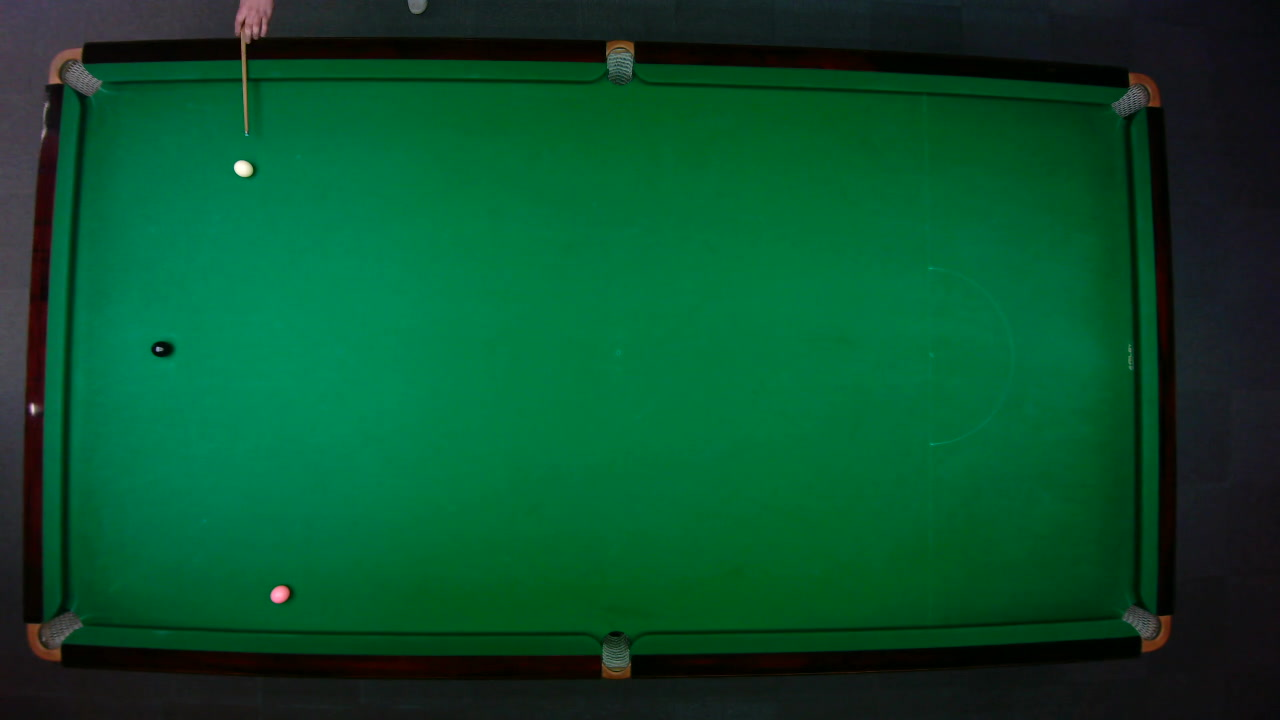bag: (25, 609, 83, 661), (46, 47, 102, 96), (1119, 603, 1171, 651), (1108, 71, 1161, 118), (600, 629, 629, 679), (605, 38, 633, 85)
black: (149, 339, 171, 357)
cue: (239, 2, 251, 139)
pink: (268, 583, 290, 604)
white: (232, 158, 254, 177)
zone: (927, 265, 1013, 445)
